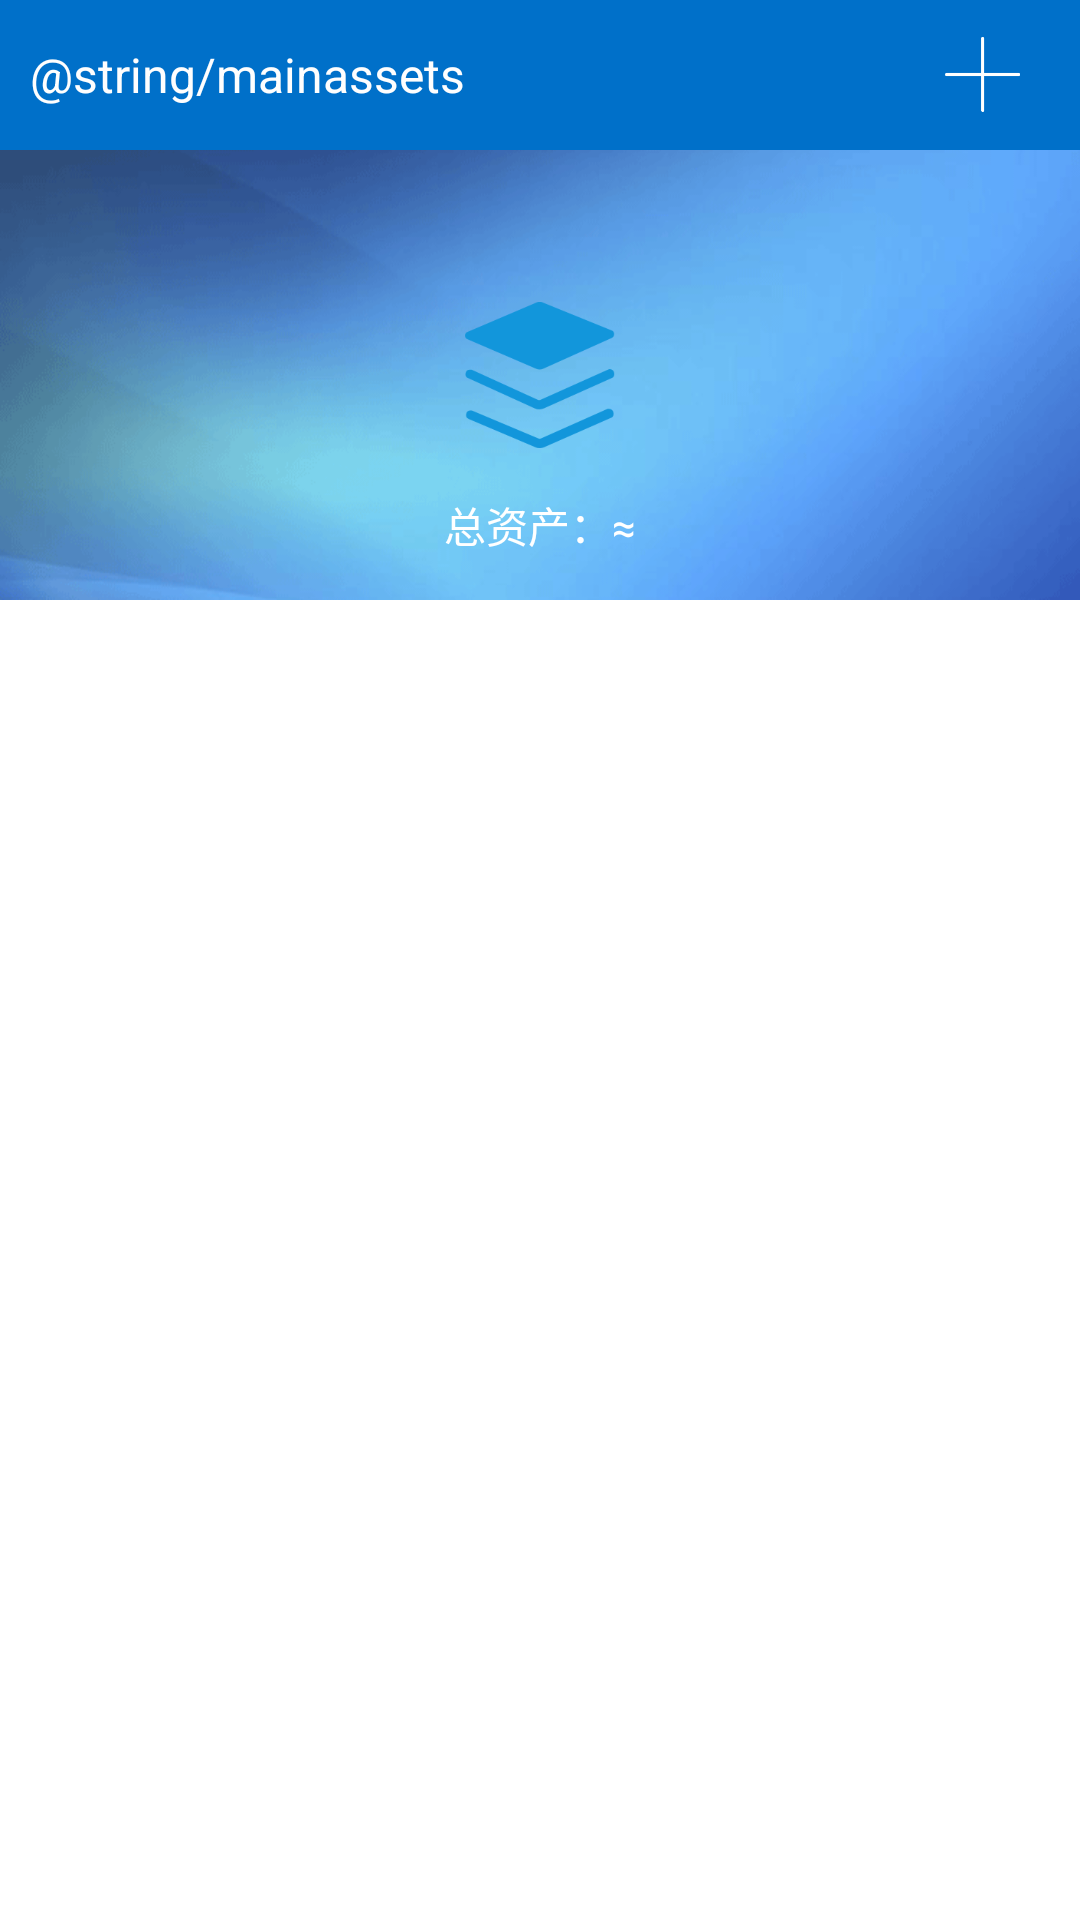

Icon click points for this 1080 x 1920 phone screenshot, format point (x, y):
add: point (982, 74)
